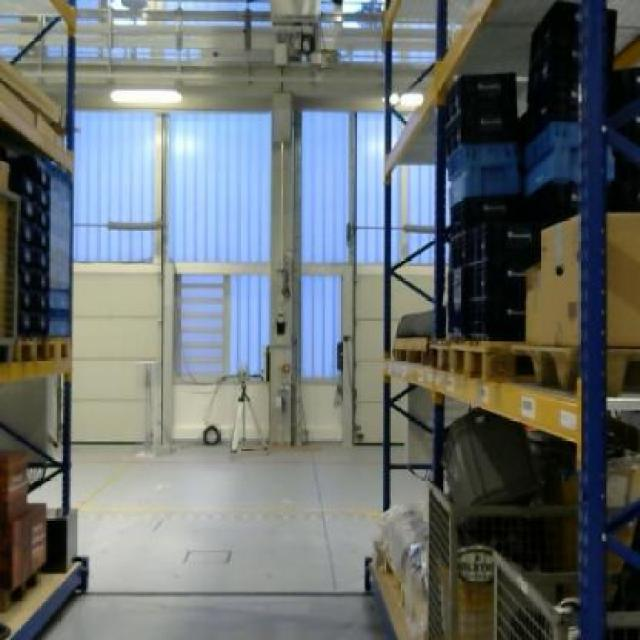box: (536, 210, 638, 348)
